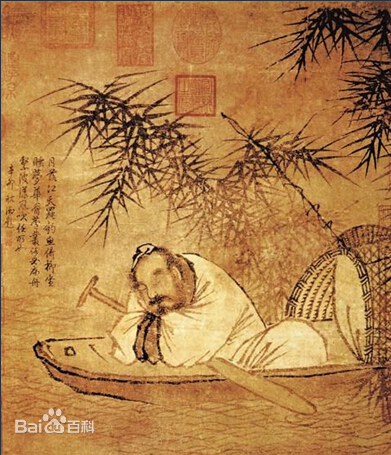bamboo: (35, 70, 344, 236), (255, 1, 391, 164), (233, 222, 307, 307)
boat: (31, 221, 391, 405)
man: (106, 241, 335, 375)
river: (103, 398, 379, 455), (7, 296, 106, 336)
